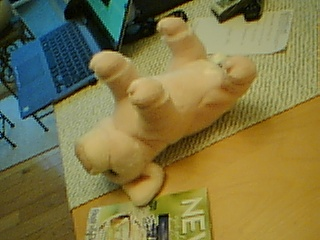piggy: (71, 16, 259, 209)
